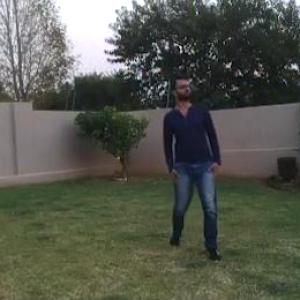follow: (159, 66, 225, 257)
